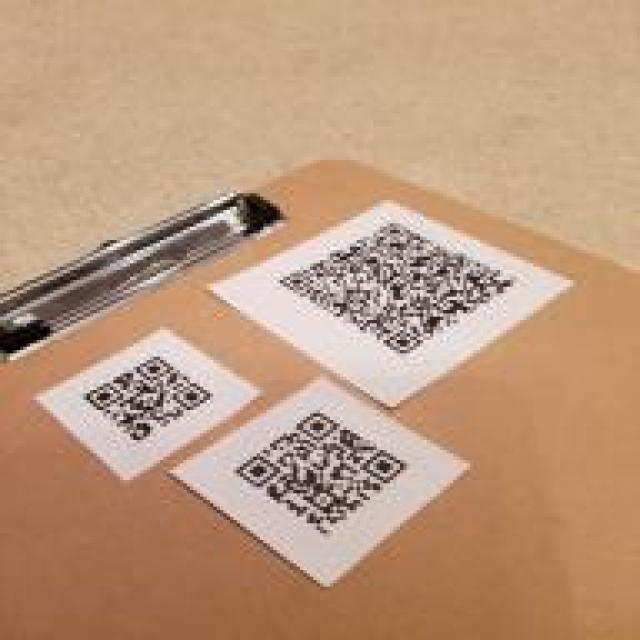QR_CODE: (268, 216, 524, 362), (223, 403, 420, 542), (75, 350, 220, 448)
